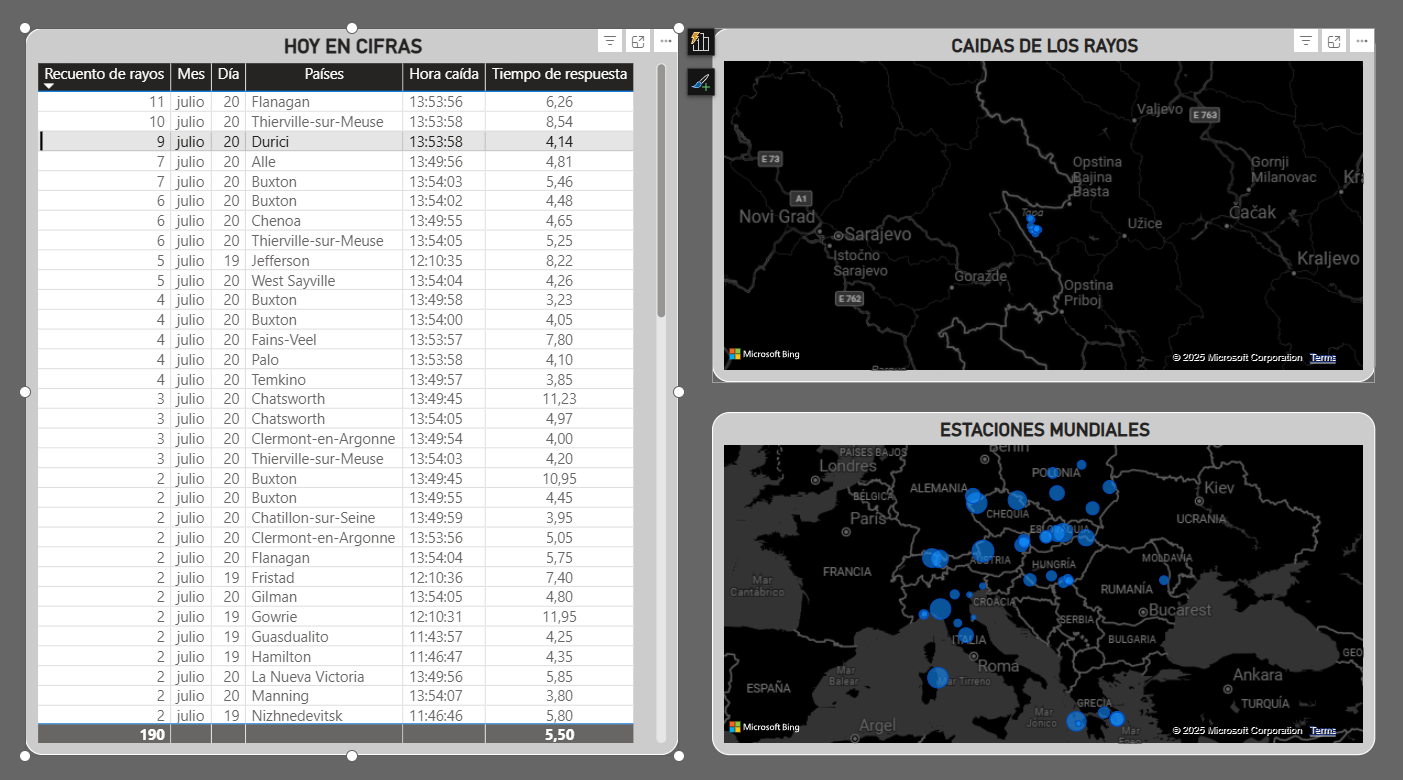

What the dashboard file says about the page in this screenshot:
{"tool":"powerbi","page":{"name":"Main","canvas":[1280,720],"ordinal":0},"visuals":[{"type":"tableEx","title":"HOY EN CIFRAS","fields":{"Values":["rayos.id","rayos.fecha.Variación.Jerarquía de fechas.Mes","rayos.fecha.Variación.Jerarquía de fechas.Día","rayos.pais","rayos.hora","Avg(rayos.delay)"]},"box":[24.4,26.7,594.4,661.1],"z":0},{"type":"map","title":"ESTACIONES MUNDIALES","fields":{"Y":["estaciones.lat"],"X":["estaciones.lon"],"Size":["Median(estaciones.alt)"]},"box":[648.9,375.6,603.3,312.2],"z":1000},{"type":"map","title":"CAIDAS DE LOS RAYOS","fields":{"Y":["rayos.lat"],"X":["rayos.lon"]},"box":[648.9,26.7,603.3,322.2],"z":2000}]}

Visuals, with their boxes on the page's 1280x720 design canvas (x1, y1, x2, y2). These are canvas units, not pixel positions in the 1403x780 screenshot, which may show the page scaled, cropped or inside an application window:
"HOY EN CIFRAS" tableEx: (x1=24, y1=27, x2=619, y2=688)
"ESTACIONES MUNDIALES" map: (x1=649, y1=376, x2=1252, y2=688)
"CAIDAS DE LOS RAYOS" map: (x1=649, y1=27, x2=1252, y2=349)
